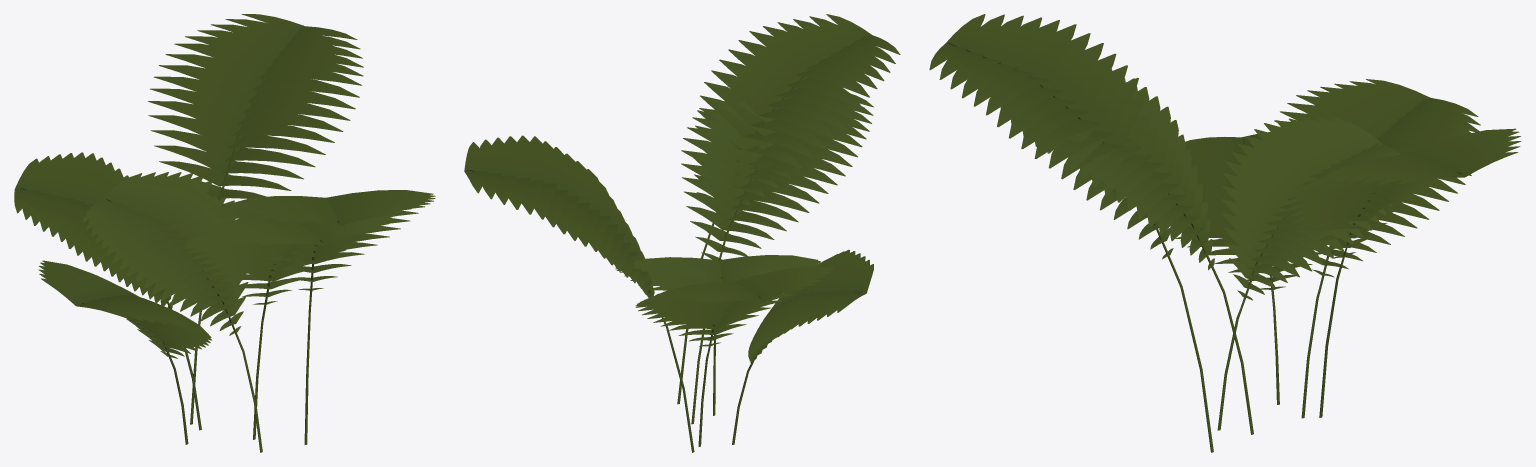
The model's file is bracken.glb.
3 renders of one model, left to right at view 1: azimuth 30°, elevation 25°; view 2: azimuth 150°, elevation 25°; view 3: azimuth 270°, elevation 25°, orthographic. The views are drawn at different scales.
Visible parts, largest first — view 1: bracken; view 2: bracken; view 3: bracken.
Boxes of the visible parts, bbox=[...] form: bracken: bbox=[14, 14, 435, 452]; bracken: bbox=[464, 14, 900, 452]; bracken: bbox=[929, 14, 1521, 452].
Bounding box in the file's own units: 0.9161 × 0.8214 × 1.2.
